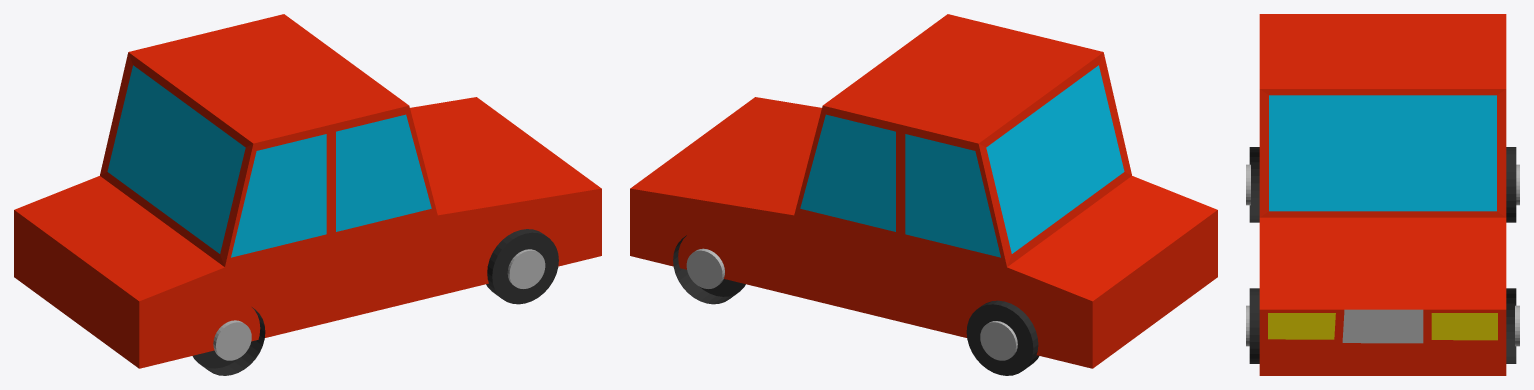
Rendered from car.glb.
3 renders of one model, left to right at view 1: azimuth 30°, elevation 25°; view 2: azimuth 150°, elevation 25°; view 3: azimuth 270°, elevation 25°, orthographic.
Parts seen in each view (by area): view 1: Car; view 2: Car; view 3: Car.
Part boxes in pixels (bbox=[...]): Car: bbox=[14, 14, 601, 375]; Car: bbox=[630, 14, 1217, 375]; Car: bbox=[1246, 14, 1519, 375].
Bounding box in the file's own units: 3.95 × 1.8 × 2.05.
